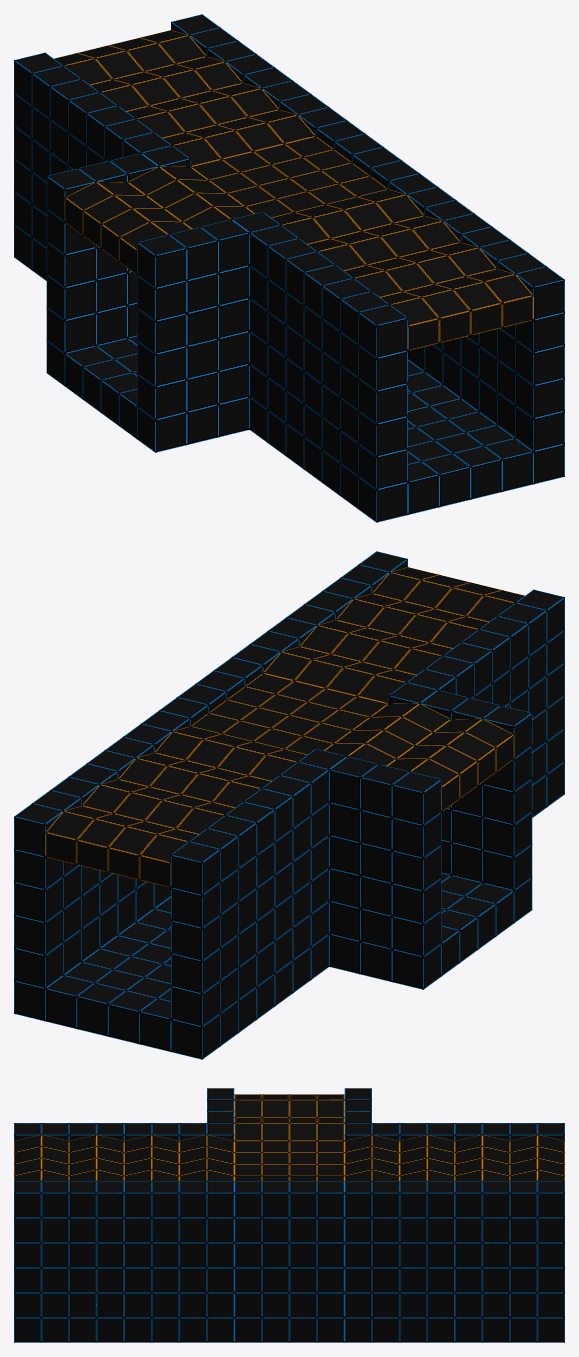
File: balls_passage.dae
3 views of the same model, one above another, from view 1: azimuth 30°, elevation 25°; view 2: azimuth 150°, elevation 25°; view 3: azimuth 270°, elevation 25° (orthographic). The views are drawn at different scales.
Visible parts, largest first — view 1: Cube_009; view 2: Cube_009; view 3: Cube_009.
Boxes of the visible parts, x1,y1,x2,y2 form: Cube_009: (14, 14, 564, 522); Cube_009: (14, 551, 564, 1059); Cube_009: (14, 1088, 564, 1342).
Size of what is drawn, in the model's own units: 1800 by 4000 by 1200.
